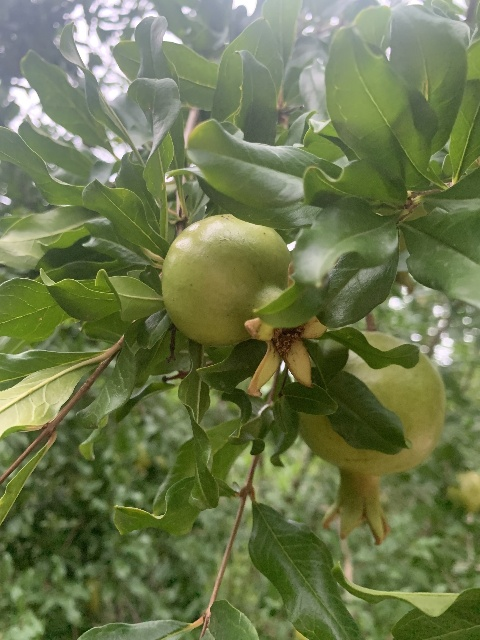mid-growth: (296, 330, 446, 546), (160, 213, 329, 397)
